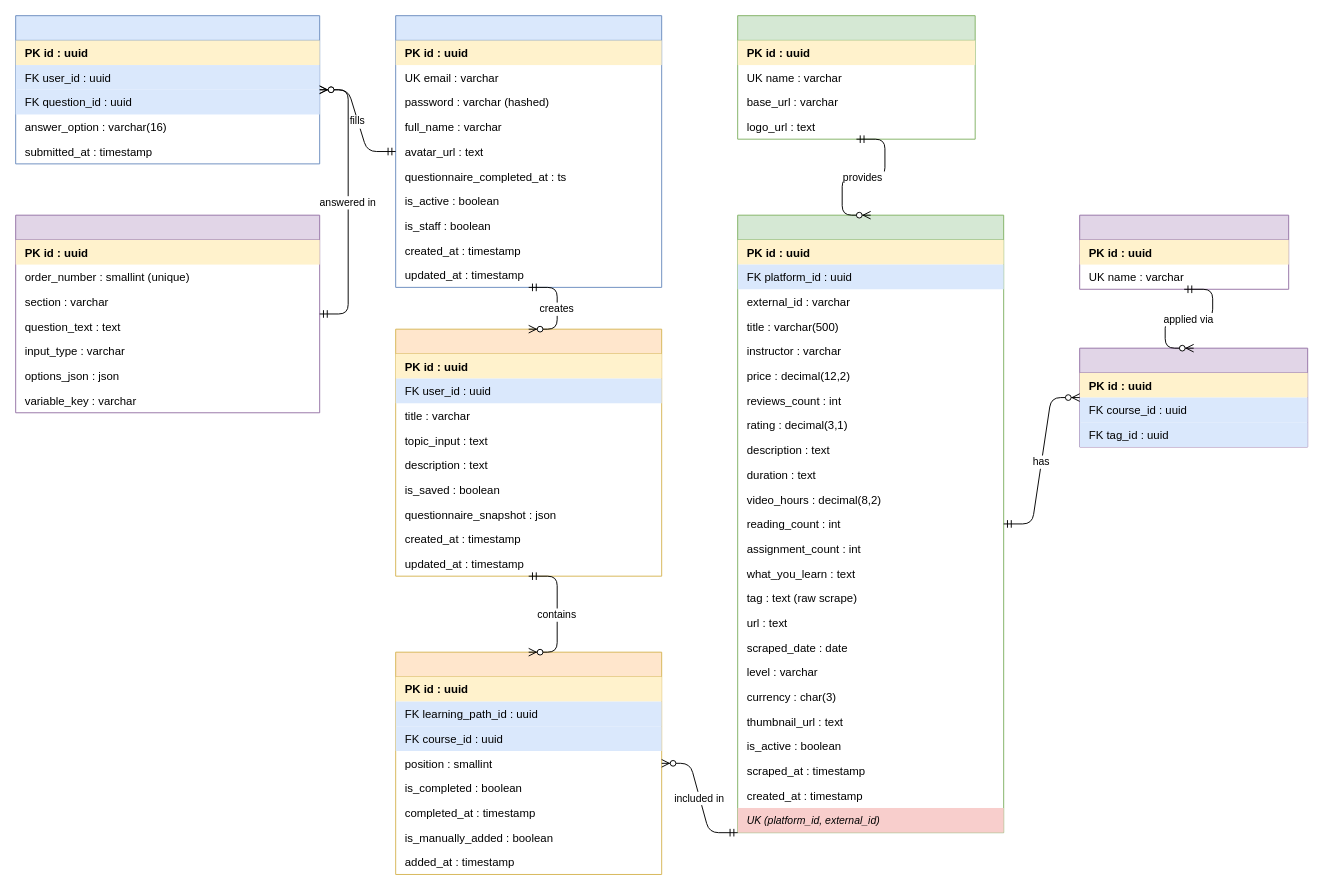
The diagram is 1323 pixels wide and 890 high, and some of its shapes have lost their labels. Each missing label, with the box of its shape:
COURSE_TAGS: (1079, 347, 1308, 447)
COURSES: (737, 214, 1004, 833)
LEARNING_PATH_COURSES: (395, 651, 662, 874)
LEARNING_PATHS: (395, 328, 662, 576)
PLATFORMS: (737, 15, 975, 139)
QUESTIONS: (15, 214, 320, 413)
TAGS: (1079, 214, 1289, 289)
USER_QUESTIONNAIRE_ANSWERS: (15, 15, 320, 164)
USERS (users_user): (395, 15, 662, 287)
